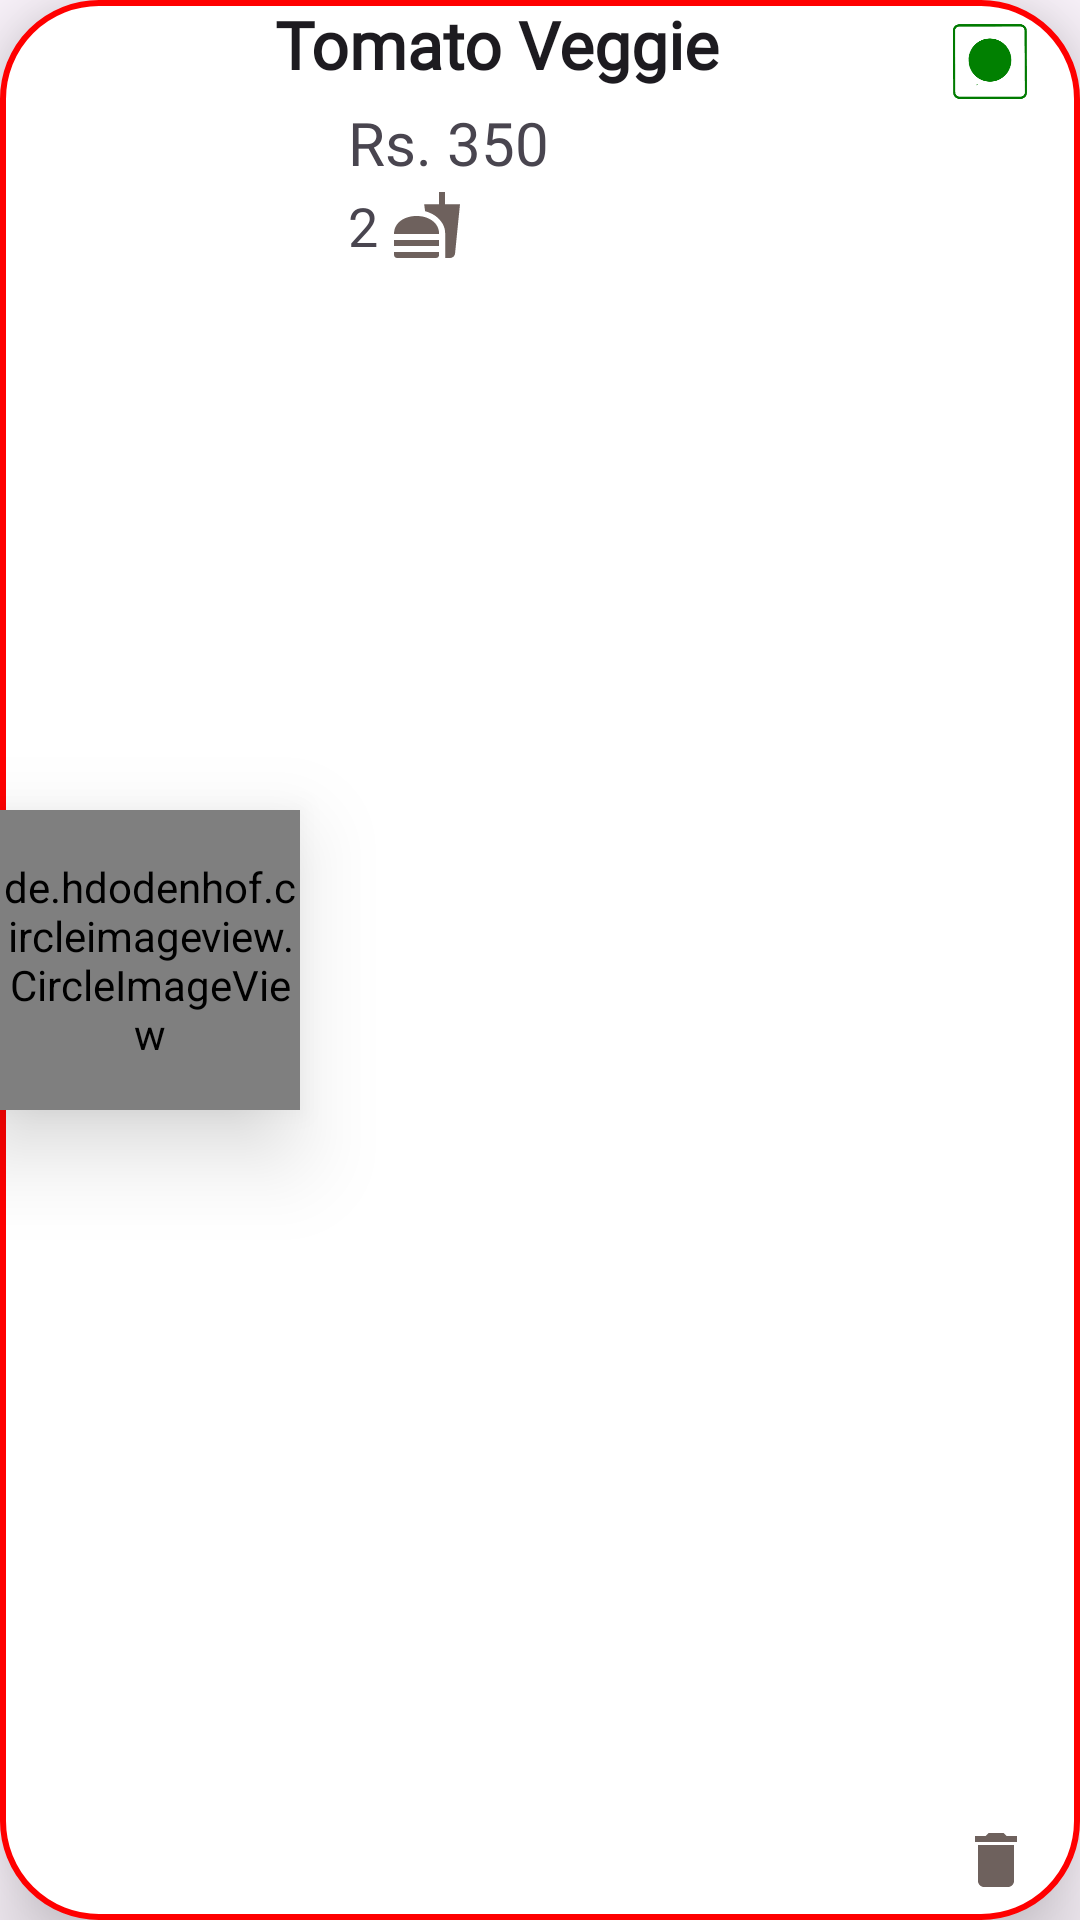

Screen size 1080x1920. Icon name, then its center in pixels as point (x, y):
delete: point (996, 1860)
veg: point (990, 61)
